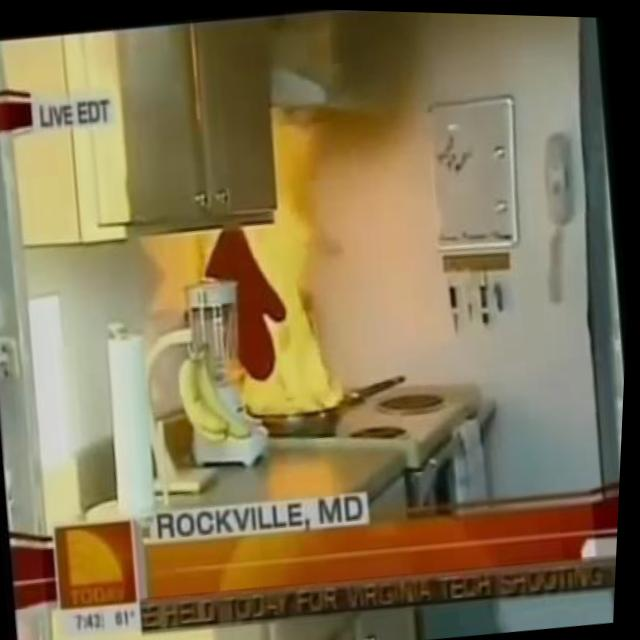fire: (175, 96, 375, 424)
